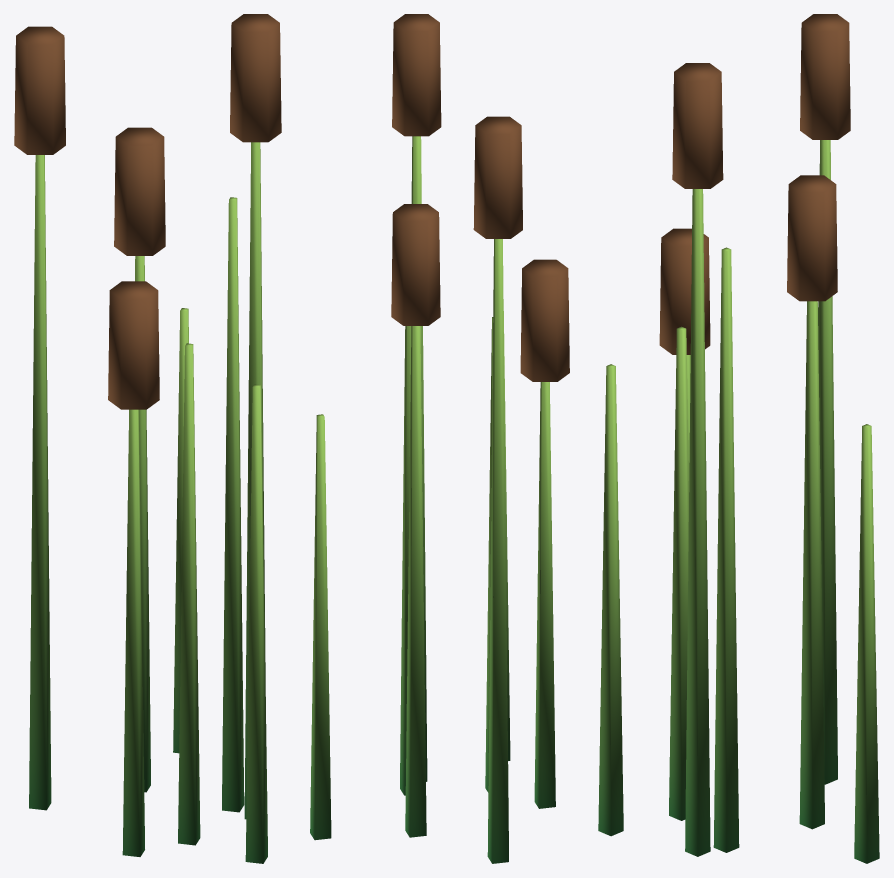
Rendered from reeds.glb.
The picture shows the model from 3 angles, left to right: view 1: azimuth 30°, elevation 25°; view 2: azimuth 150°, elevation 25°; view 3: azimuth 270°, elevation 25°; orthographic projection. The views are drawn at different scales.
Parts seen in each view (by area): view 1: Reeds; view 2: Reeds; view 3: Reeds.
Part boxes in pixels (bbox=[...]): Reeds: bbox=[14, 14, 281, 863]; Reeds: bbox=[310, 14, 569, 863]; Reeds: bbox=[598, 14, 879, 863].
Bounding box in the file's own units: 0.2797 × 1.08 × 0.3541.
